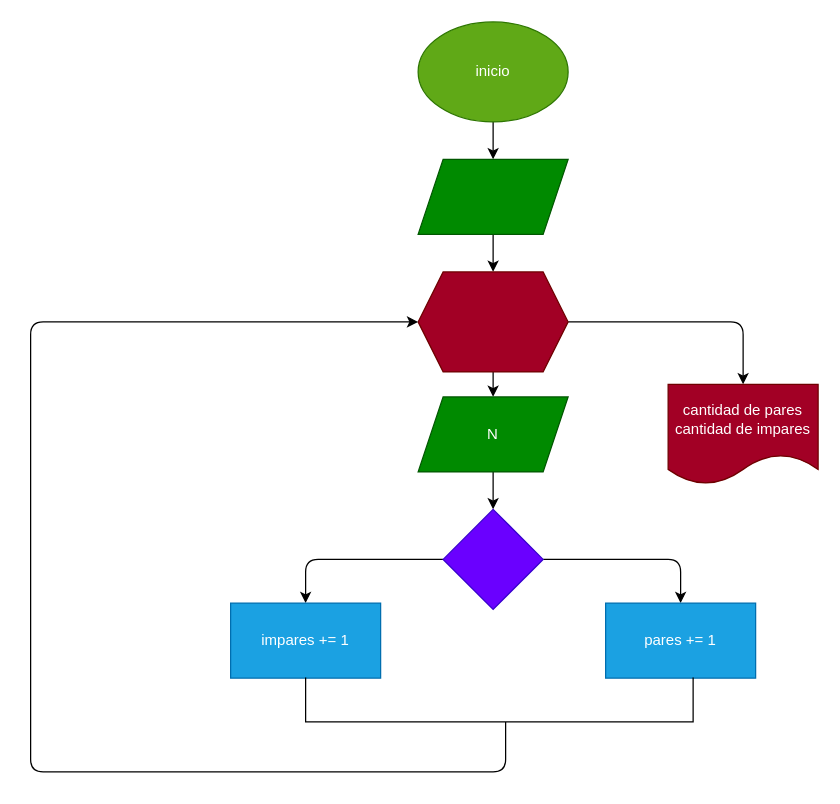
The diagram is 840 pixels wide and 804 high, and some of its shapes have lost their labels. The shapes that lost their labels are listed below. From the top down, each one's box as (x1, y1, x2, y2) in pixels, then its label:
(417, 158, 568, 234): pares = 0 impares = 0 m
(417, 271, 568, 372): i = range( m)
(442, 508, 543, 609): N % 2 = 0
